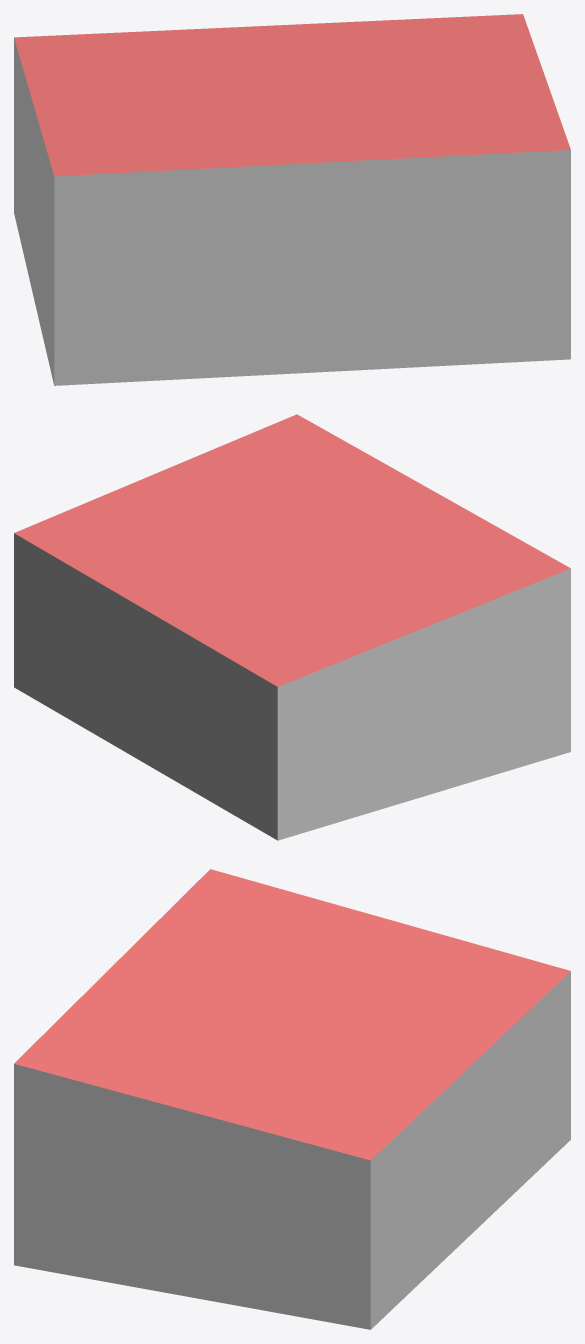
The model's file is DEBY_LOD2_4908176.gltf.
3 views of the same model, one above another, from view 1: azimuth 30°, elevation 25°; view 2: azimuth 150°, elevation 25°; view 3: azimuth 270°, elevation 25° (orthographic). The views are drawn at different scales.
Parts seen in each view (by area): view 1: Z_UP; view 2: Z_UP; view 3: Z_UP.
Boxes of the visible parts, bbox=[...] form: Z_UP: bbox=[14, 14, 570, 385]; Z_UP: bbox=[14, 414, 570, 840]; Z_UP: bbox=[14, 869, 570, 1329].
Size of the model in its own units: 8.03 by 2.91 by 7.29.
